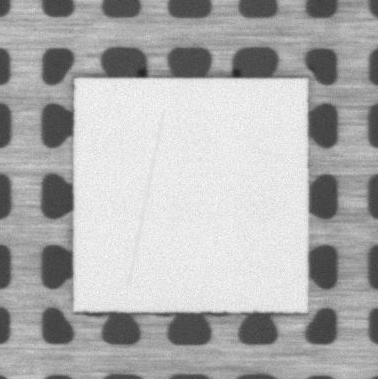DIE_CRACK: (129, 110, 164, 284)
